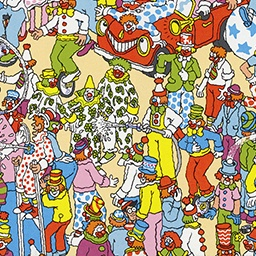waldo: (118, 199, 137, 230), (118, 197, 138, 223)
